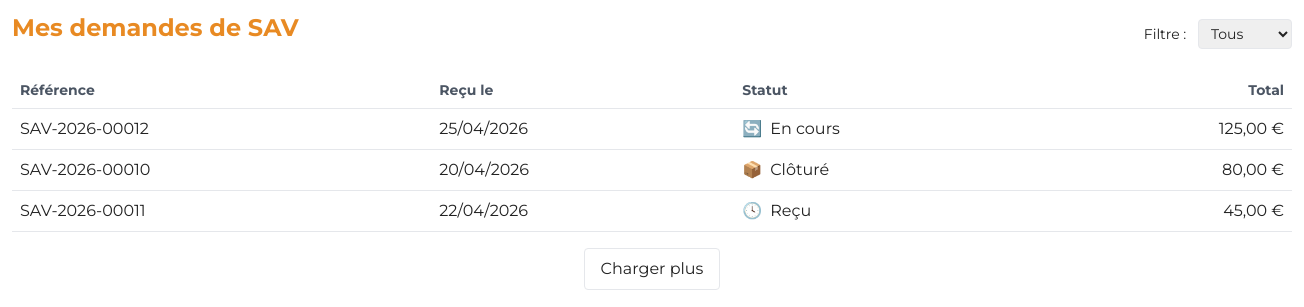
Scenario: MemberSavListView (Story 6.2 + Story 6.5) › AC#6 meta.cursor non-null → bouton "Charger plus" appelle GET /api/self-service/sav?cursor=...
Step 1. Click the button with test id "load-more" → click(652, 269), box [584,248,720,290]
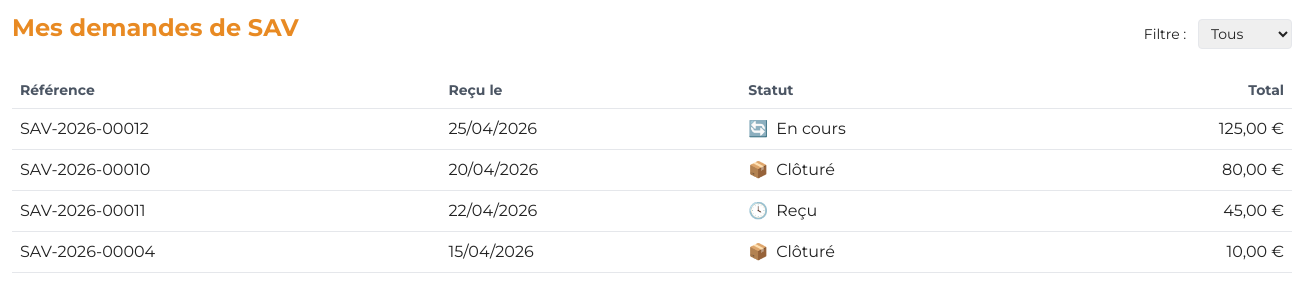
Expected: the number of rows with test id "member-sav-row" is 4, [12,108,1292,150]; [12,150,1292,190]; [12,190,1292,232]; [12,232,1292,272]
